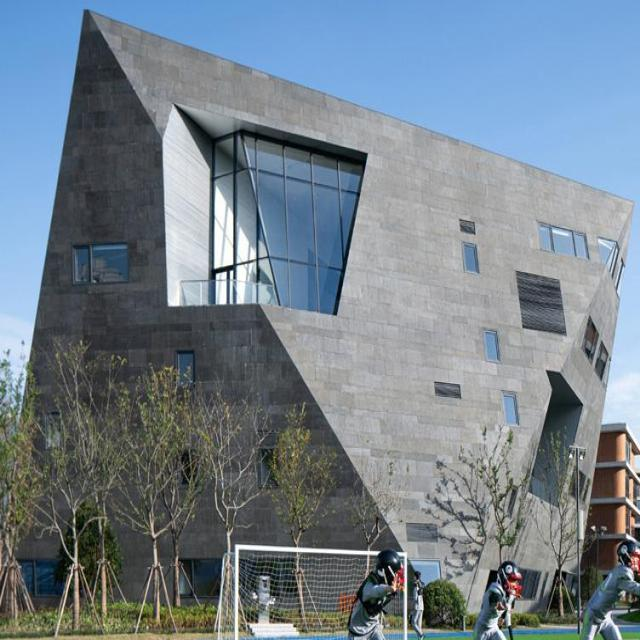railing: (178, 278, 282, 308)
window: (212, 130, 364, 313), (73, 244, 126, 283), (539, 223, 587, 258), (583, 315, 599, 364), (600, 239, 619, 278), (595, 341, 609, 383), (616, 260, 626, 300), (463, 244, 476, 273), (485, 331, 498, 360), (504, 395, 517, 424), (436, 382, 462, 396)
